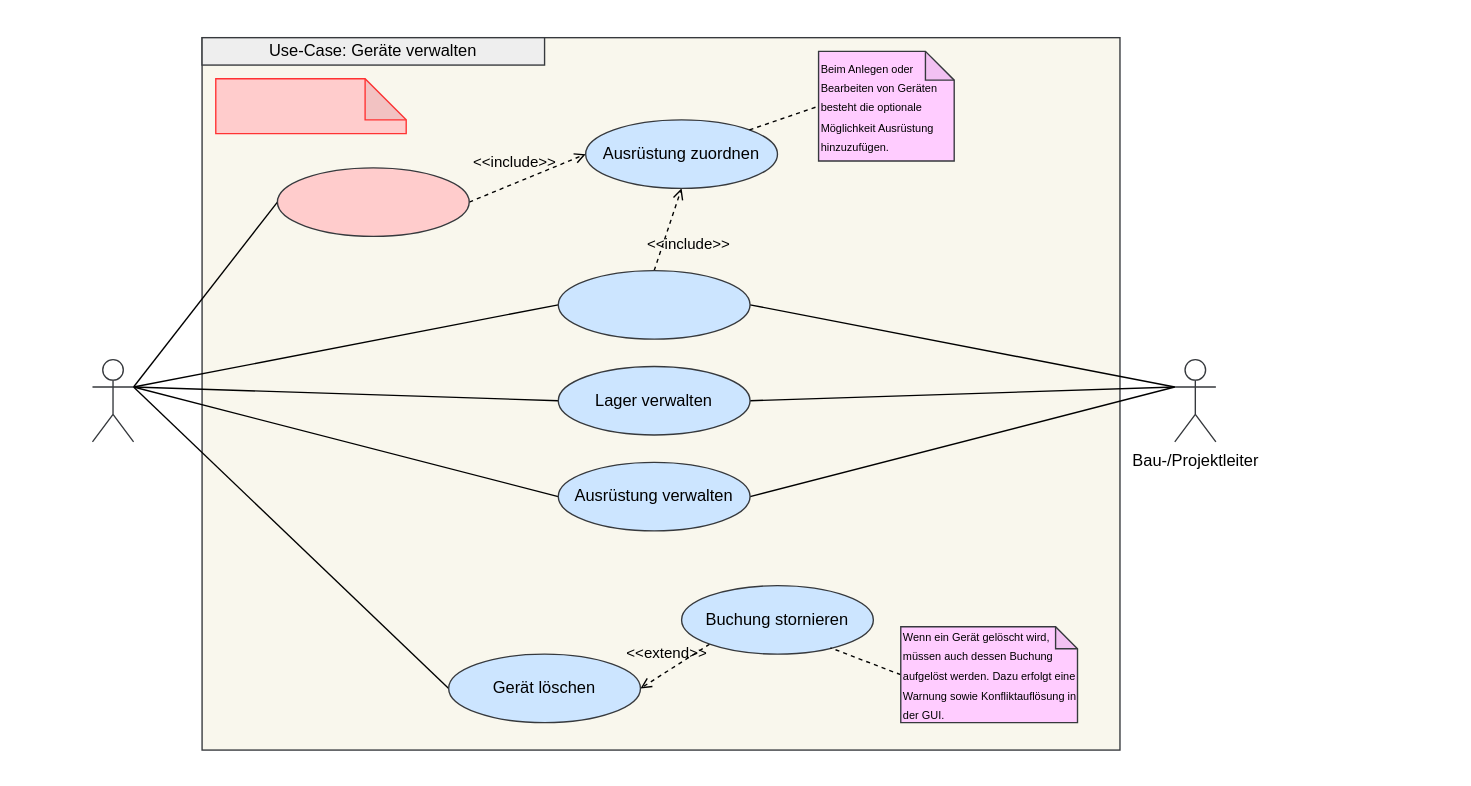
This 1471x786 diagram has some shape labels left out. Each missing label, with the centre of its shape:
Gerät anlegen: point 372,201
Gerät bearbeiten: point 653,304
Verwaltungsmitarbeiter: point 112,400
Wird im folgenden weiter vertieft: point 310,105
